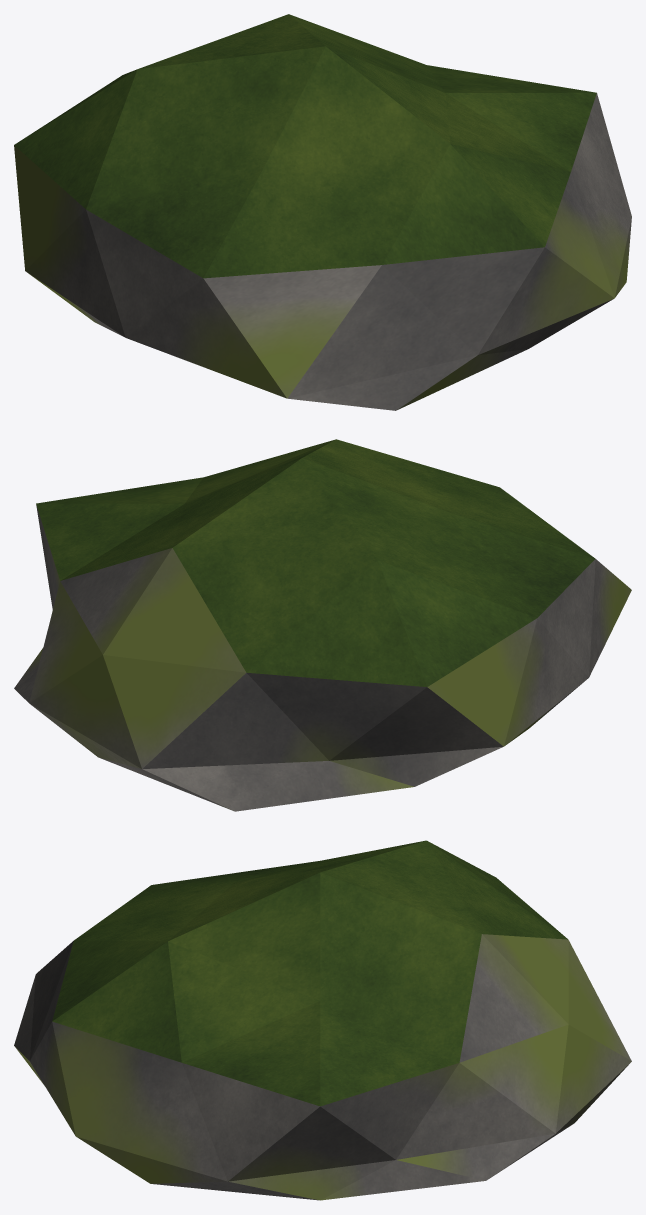
File: rock_2.glb
The picture shows the model from 3 angles, top to bottom: view 1: azimuth 30°, elevation 25°; view 2: azimuth 150°, elevation 25°; view 3: azimuth 270°, elevation 25°; orthographic projection. The views are drawn at different scales.
Visible parts, largest first — view 1: rock_2; view 2: rock_2; view 3: rock_2.
Part boxes in pixels (x1,y1,x2,y2): rock_2: [14, 14, 631, 410]; rock_2: [14, 439, 631, 811]; rock_2: [14, 840, 631, 1200].
Size of the model in its own units: 2.51 by 1.16 by 2.68.
Materials: 2 (2 with a texture image).
